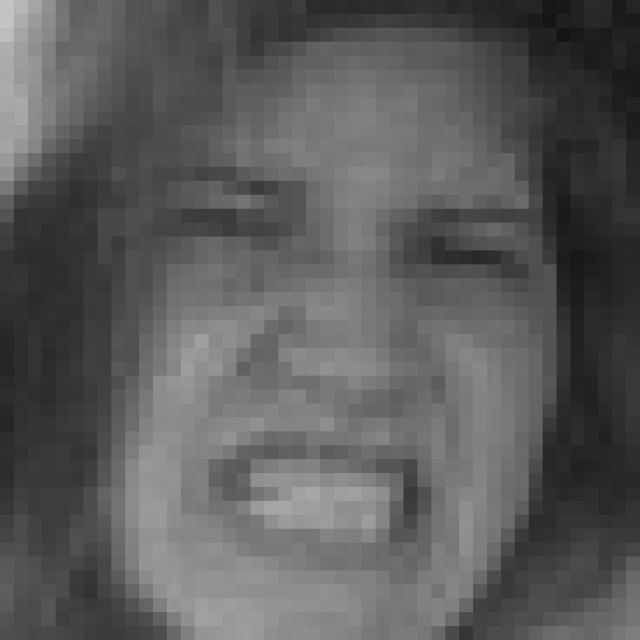real: (34, 17, 568, 640), (140, 130, 544, 298)
